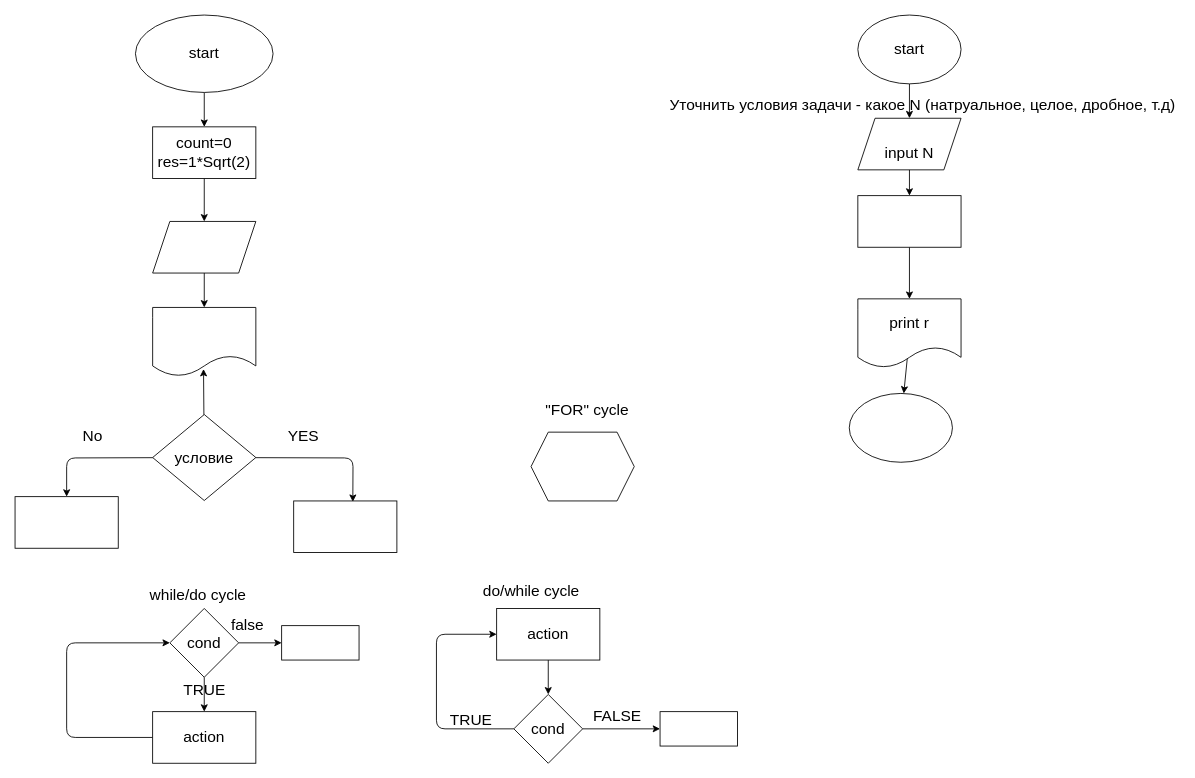
This 1195x778 diagram has some shape labels left out. The shapes that lost their labels are listed below. From the top down, each one's box as (x1, y1, x2, y2) in pixels, then its label:
(857, 195, 961, 247): r=ramd(1,N)
(152, 221, 256, 273): input count
(152, 307, 256, 376): print count
(848, 393, 952, 462): end
(530, 431, 634, 501): count=1,10,1
